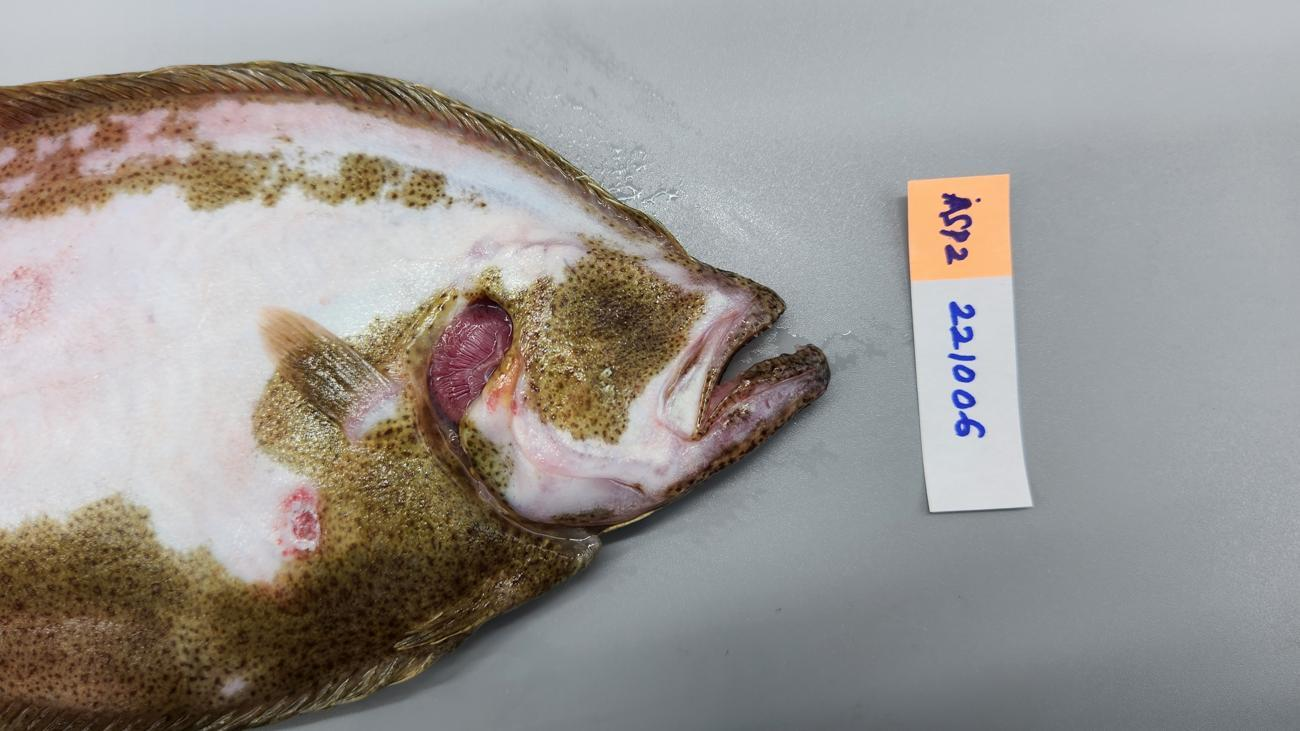SPDYH: (0, 480, 516, 717)
